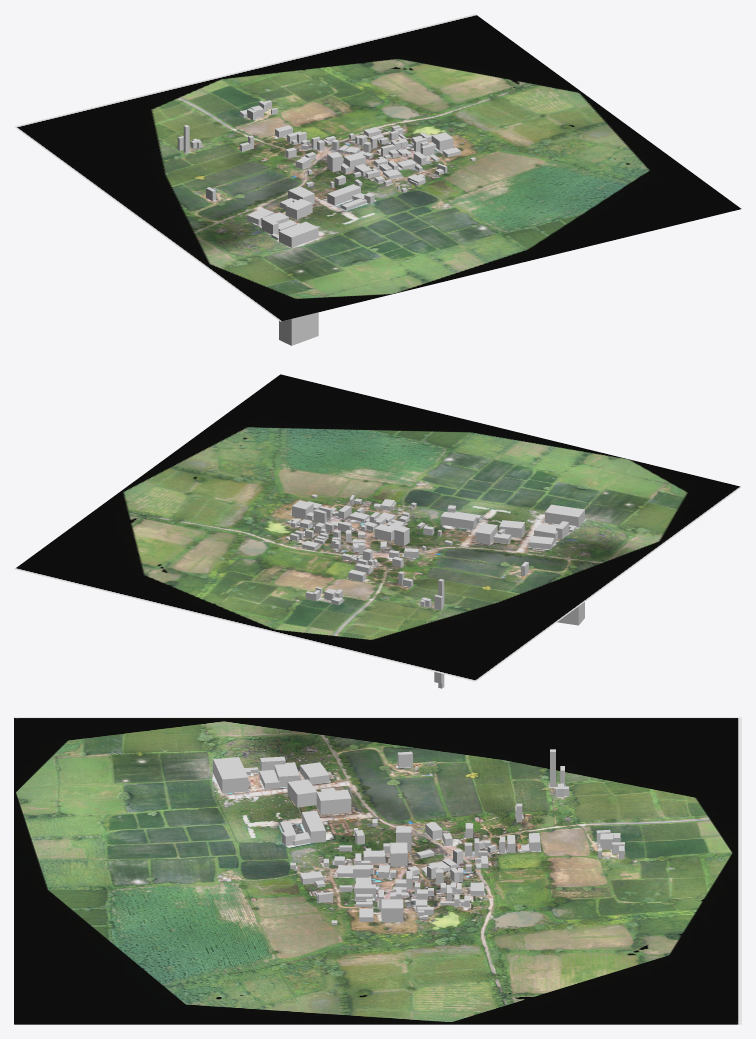
Rendered from gujarat2.glb.
3 renders of one model, top to bottom at view 1: azimuth 30°, elevation 25°; view 2: azimuth 150°, elevation 25°; view 3: azimuth 270°, elevation 25°, orthographic. The views are drawn at different scales.
Visible parts, largest first — view 1: Plane, Cube.048; view 2: Plane, Cube.048; view 3: Plane, Cube.048, Cube.056, Cube.055, Cube.044, Cube.001, Cube.050.
Boxes of the visible parts, x1=… form: Plane: x1=14, y1=14, x2=741, y2=321; Cube.048: x1=279, y1=221, x2=318, y2=345; Plane: x1=14, y1=374, x2=741, y2=681; Cube.048: x1=545, y1=504, x2=584, y2=625; Plane: x1=14, y1=717, x2=741, y2=1024; Cube.048: x1=213, y1=757, x2=248, y2=793; Cube.056: x1=316, y1=789, x2=351, y2=814; Cube.055: x1=287, y1=779, x2=316, y2=807; Cube.044: x1=302, y1=811, x2=325, y2=842; Cube.001: x1=381, y1=899, x2=403, y2=922; Cube.050: x1=300, y1=762, x2=329, y2=784.
Bounding box in the file's own units: 17.72 × 4.55 × 17.72.
2 materials, 2 textured.
